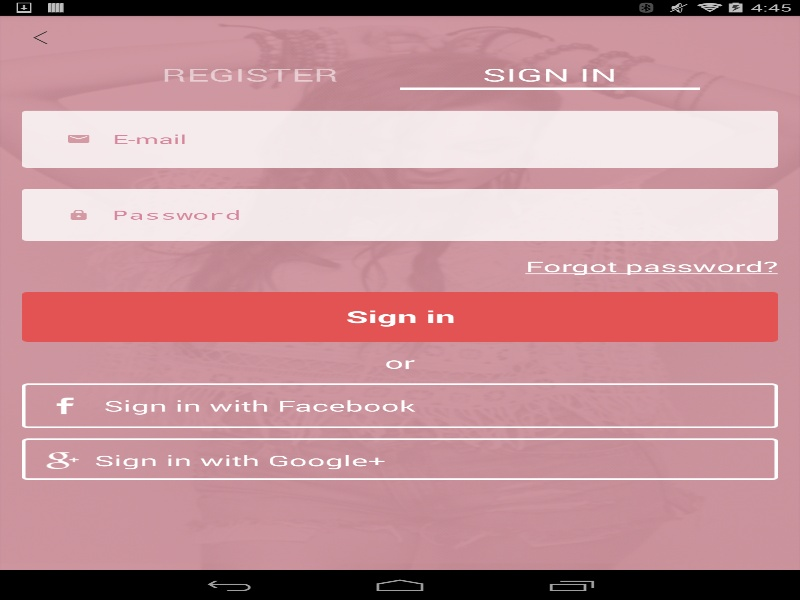Button: (22, 291, 778, 341), (22, 383, 778, 428), (22, 438, 778, 480)
Input: (112, 116, 733, 162), (112, 191, 733, 237)
